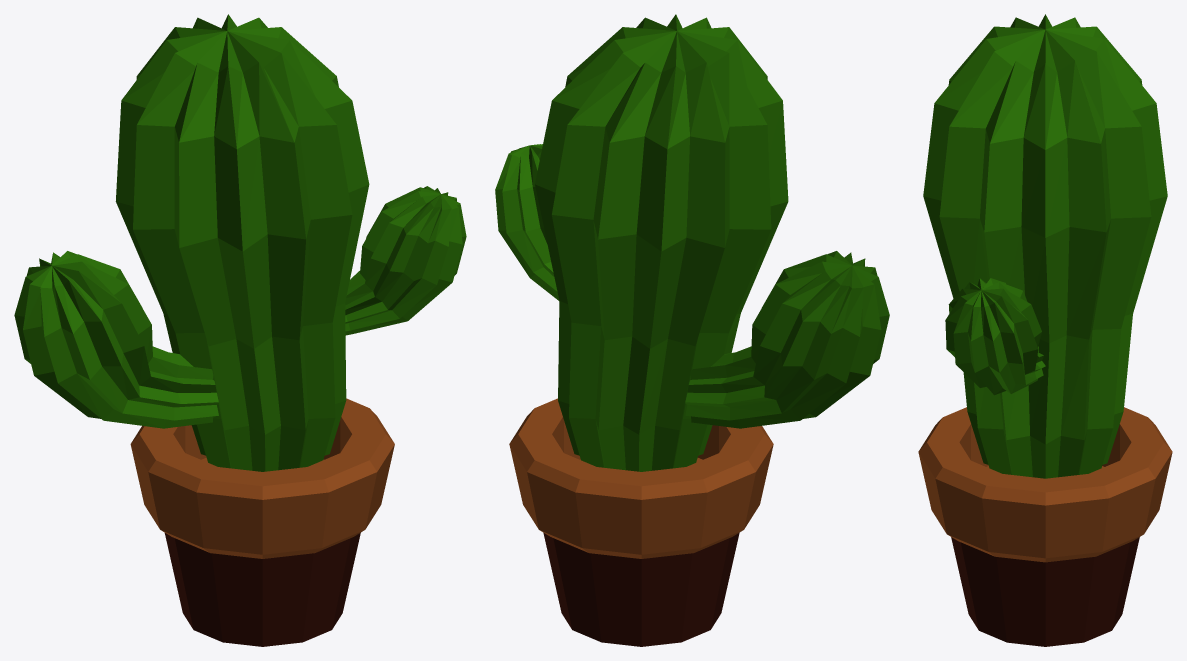
File: Cacti.FBX
3 renders of one model, left to right at view 1: azimuth 30°, elevation 25°; view 2: azimuth 150°, elevation 25°; view 3: azimuth 270°, elevation 25°, orthographic. The views are drawn at different scales.
Parts seen in each view (by area): view 1: Cacti; view 2: Cacti; view 3: Cacti.
Part boxes in pixels (x1=…): Cacti: x1=14, y1=14, x2=466, y2=646; Cacti: x1=495, y1=14, x2=889, y2=646; Cacti: x1=918, y1=14, x2=1172, y2=646.
Size of the model in its own units: 0.2134 by 0.1195 by 0.2947.
